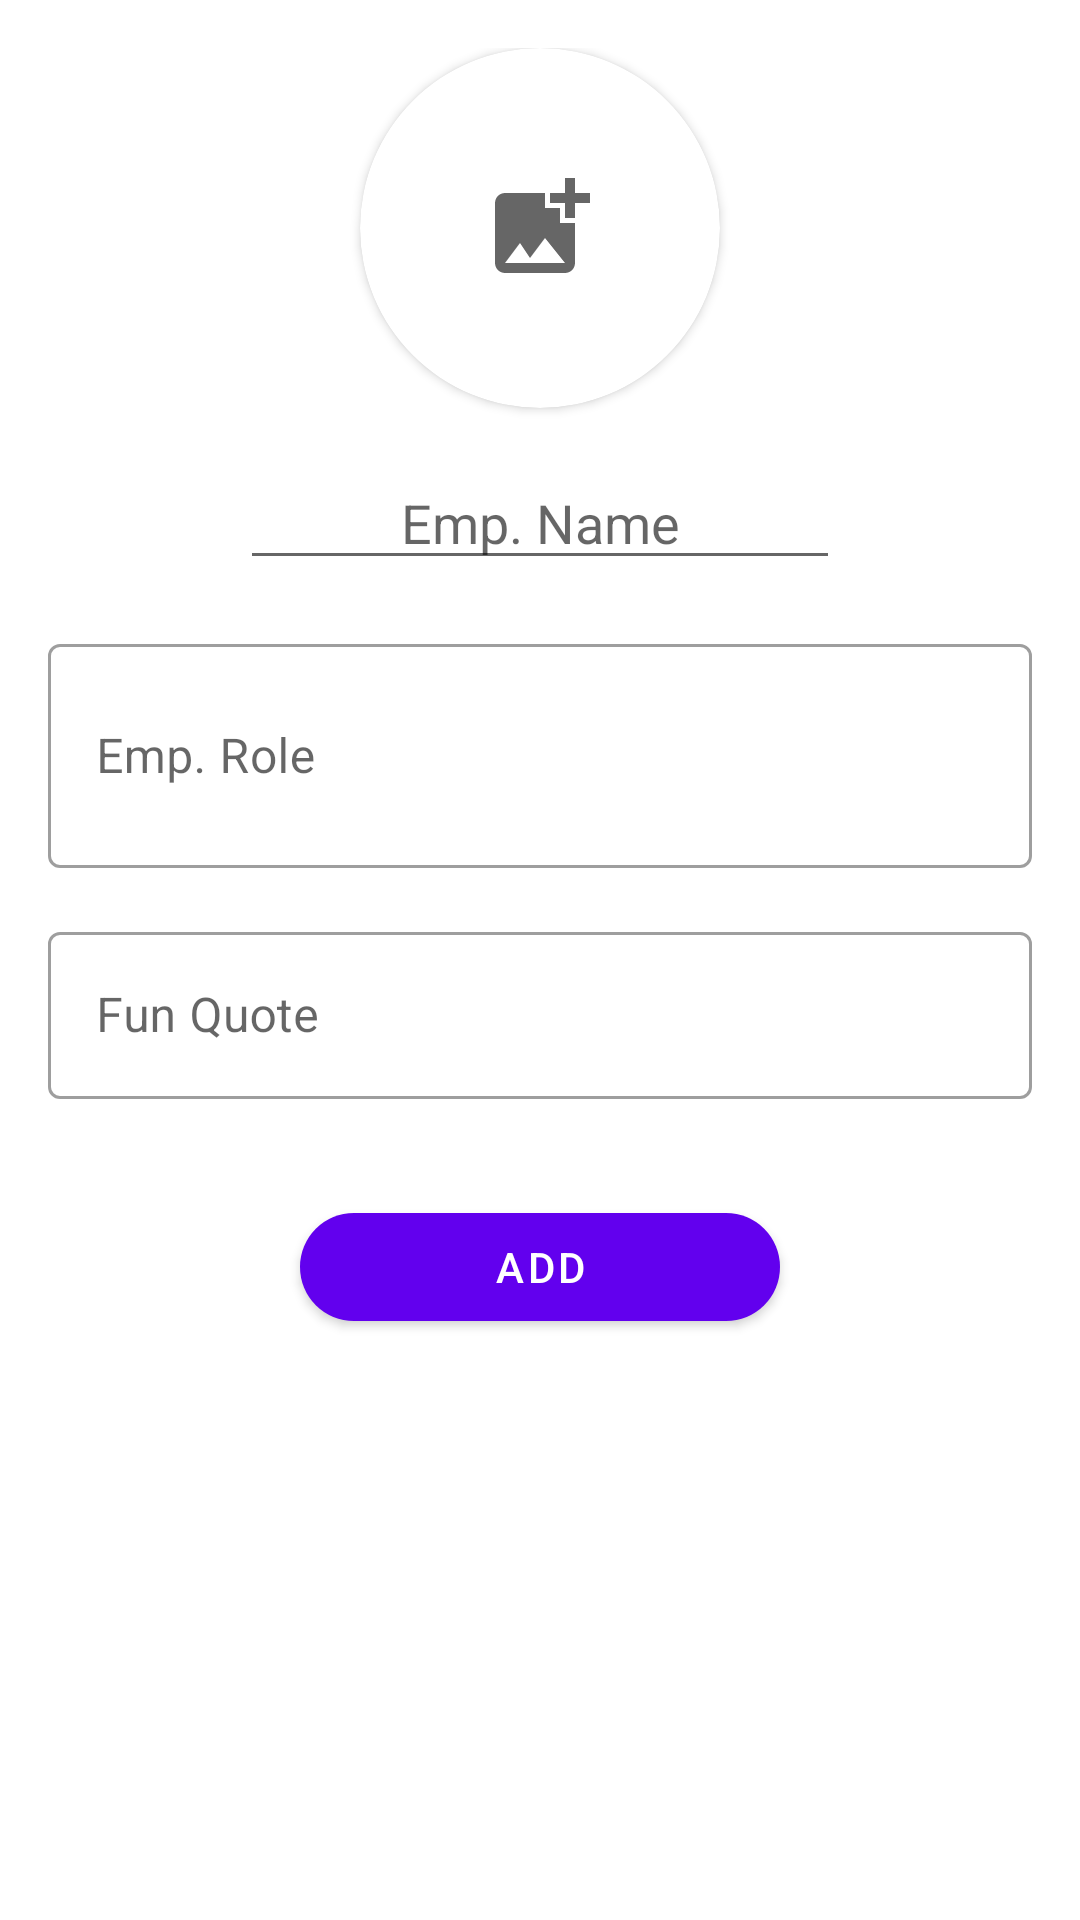

Named icons in this screenshot (1080 x 1920) and their centers, (x,y):
gallery: (542,225)
